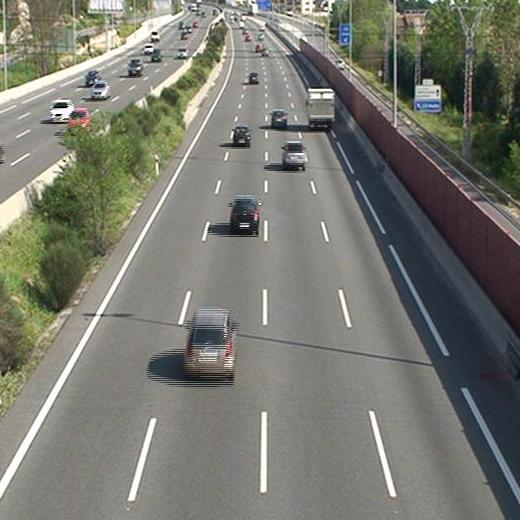car: (184, 311, 235, 379), (229, 198, 258, 231), (282, 142, 308, 167), (233, 125, 250, 146), (271, 110, 287, 128), (249, 73, 259, 85)
small-truck: (306, 87, 334, 129)
